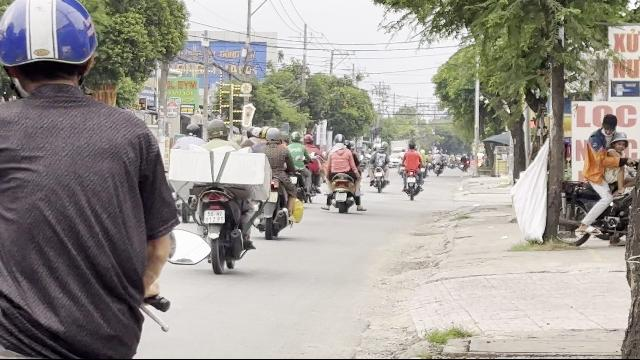helmet: (0, 0, 100, 94), (205, 118, 228, 140), (185, 122, 201, 136)
licenseplate: (204, 209, 224, 223)
motorcyclist: (0, 0, 188, 358), (166, 116, 264, 274)
